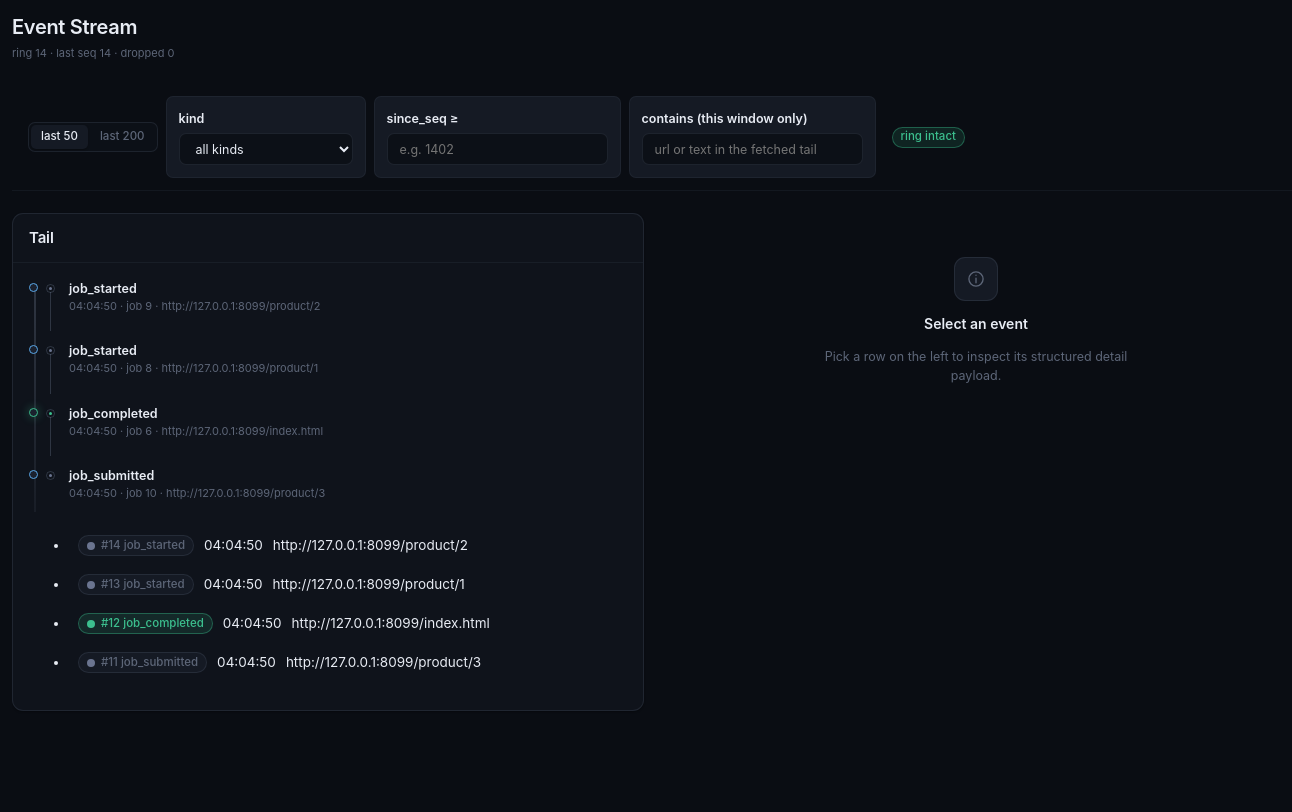
Event Stream › passes kind + since_seq to the server as real query params, substring filter stays local
Expected: the text "ring 14 · last seq 14 · dropped 0" is shown, x1=12 y1=45 x2=174 y2=62
Select "job_failed" in the dropdown named "event kind" at [266, 149], box x1=178 y1=133 x2=352 y2=165
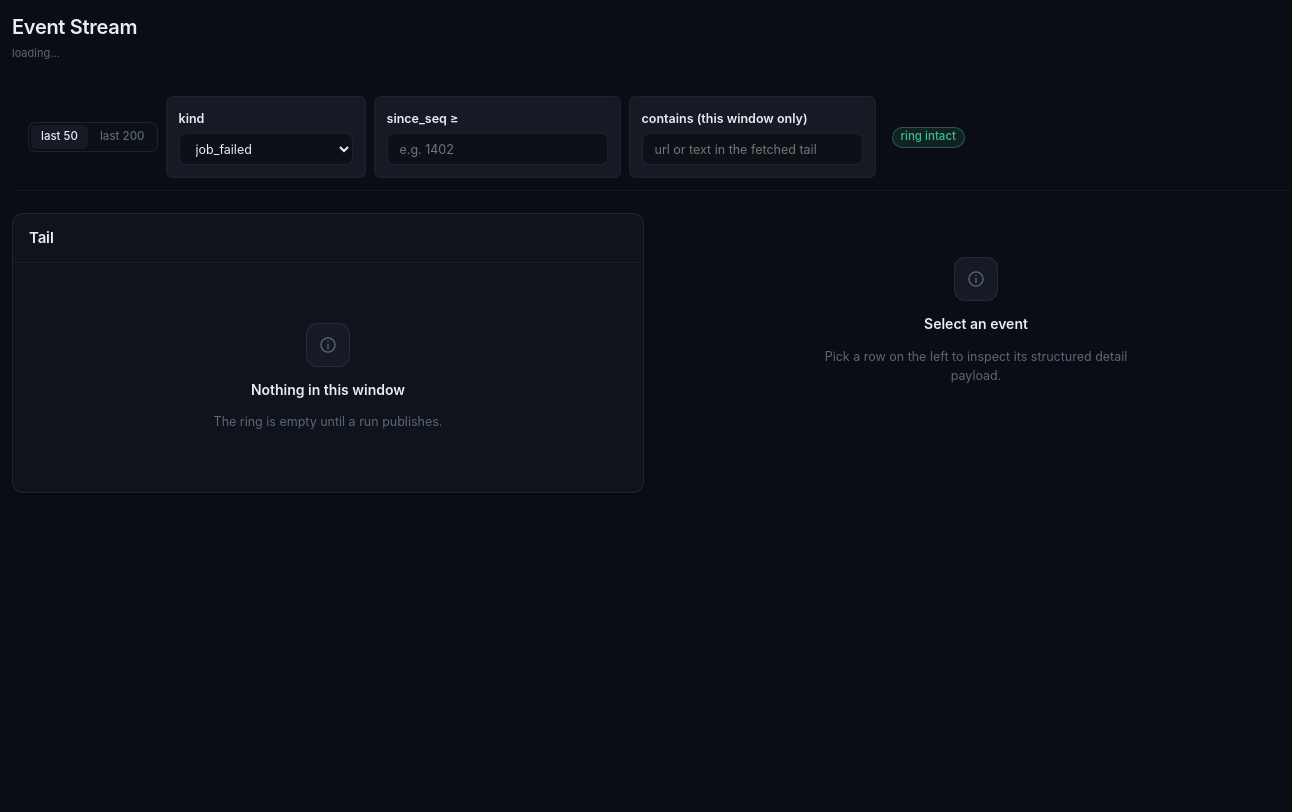
Type "10" into the field named "since sequence" at [497, 149], box x1=386 y1=133 x2=608 y2=165
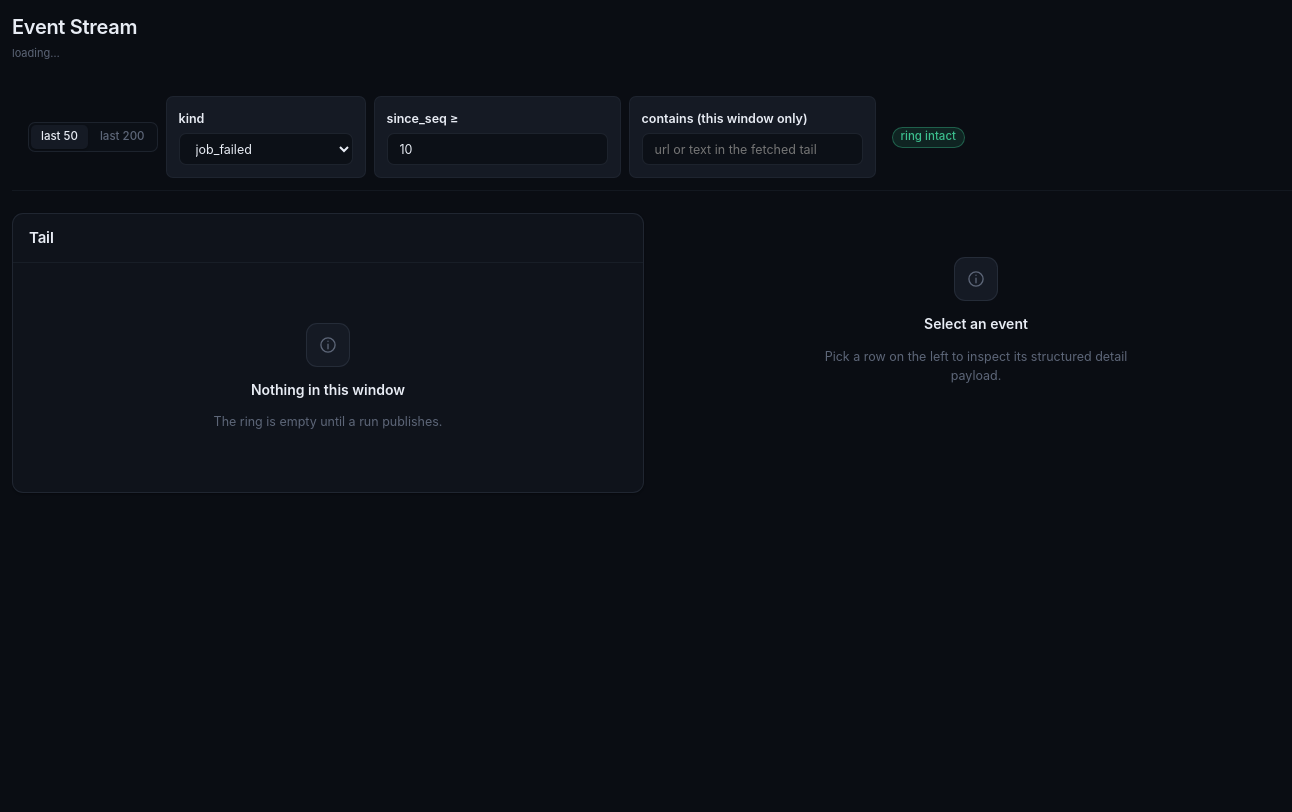
Type "product/9" into the field named "substring filter" at [752, 149], box x1=642 y1=133 x2=862 y2=165
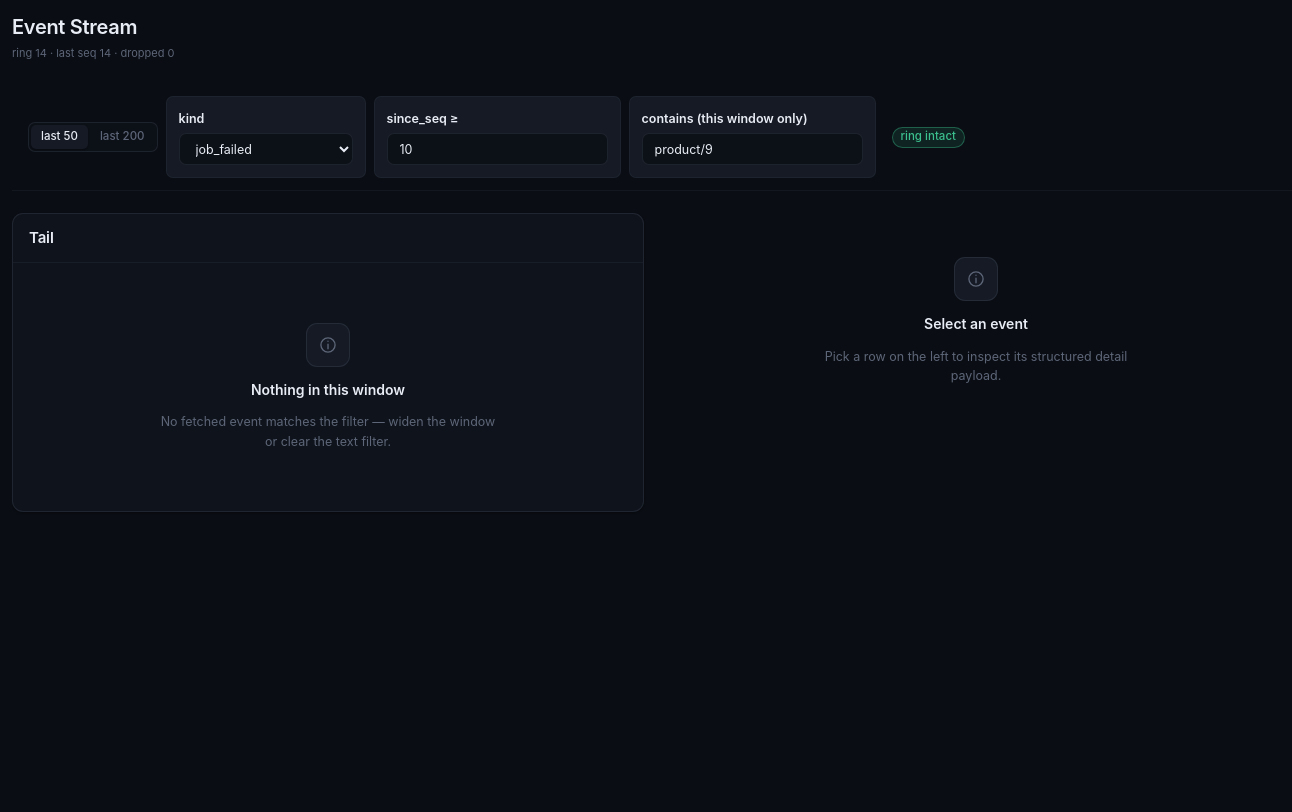
Expected: the text "No fetched event matches the filter" is shown, x1=161 y1=414 x2=495 y2=449
